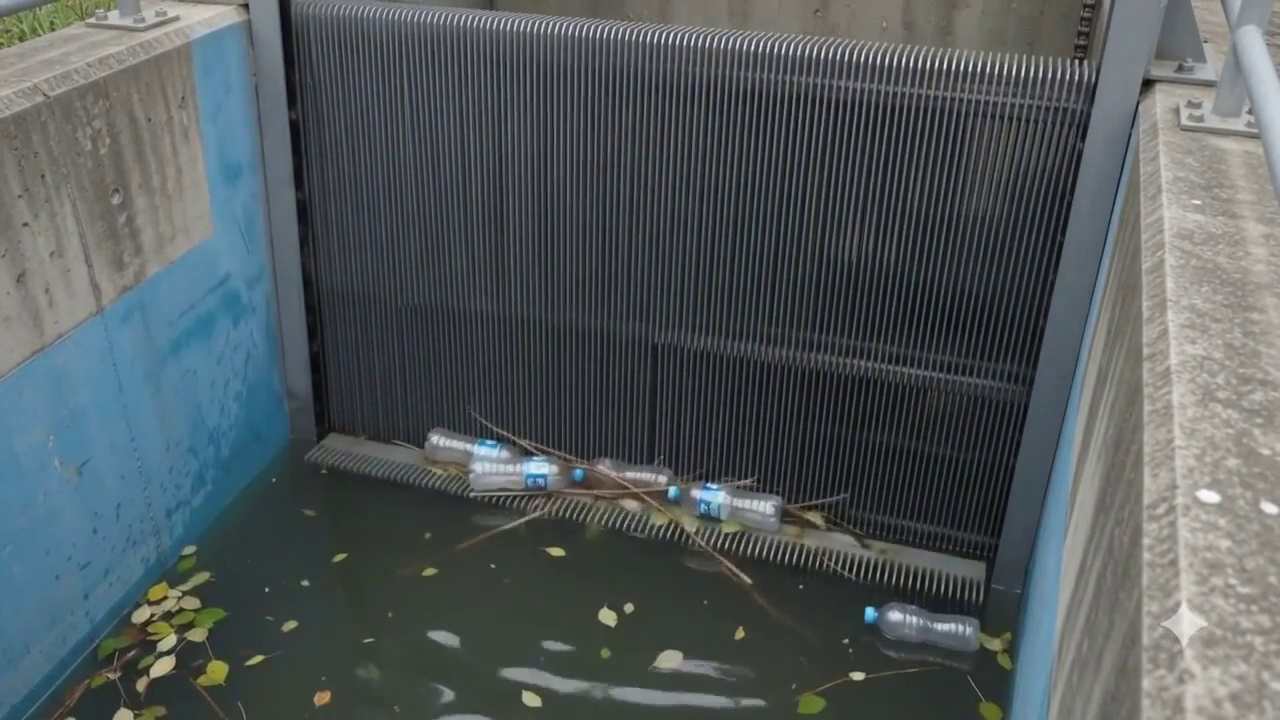debris: (424, 430, 783, 531), (97, 582, 224, 658), (864, 603, 980, 651)
